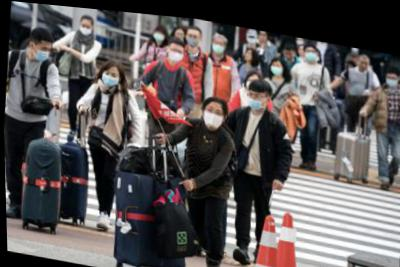NONE: (358, 52, 369, 65), (174, 27, 186, 38), (242, 43, 252, 56), (297, 41, 306, 51)
OK: (201, 99, 225, 125), (245, 84, 265, 106), (32, 41, 52, 62), (100, 66, 119, 85), (168, 41, 184, 60), (243, 71, 259, 87), (211, 34, 226, 50), (187, 28, 200, 45), (79, 20, 93, 35), (304, 41, 317, 56), (386, 66, 399, 80), (271, 56, 283, 71), (154, 25, 166, 39), (246, 29, 257, 40), (314, 45, 321, 56)
WRONG: (283, 43, 295, 57)
